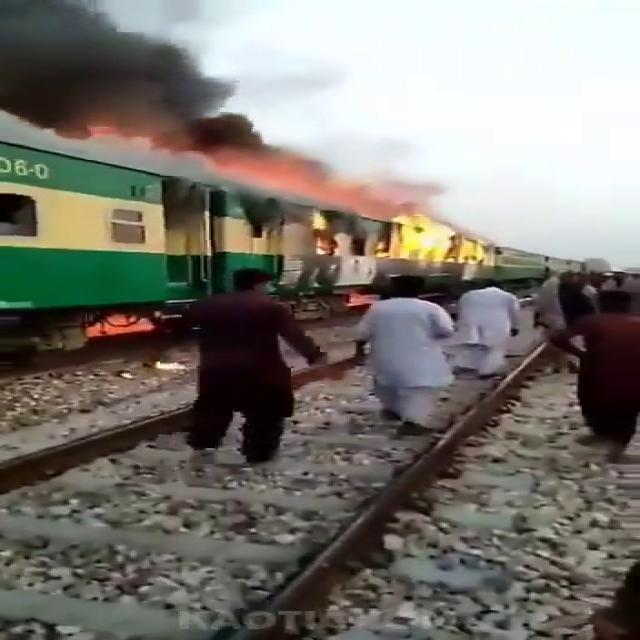Fire: (387, 215, 484, 264), (313, 214, 338, 258)
Smoke: (0, 0, 235, 135), (200, 140, 445, 222)
